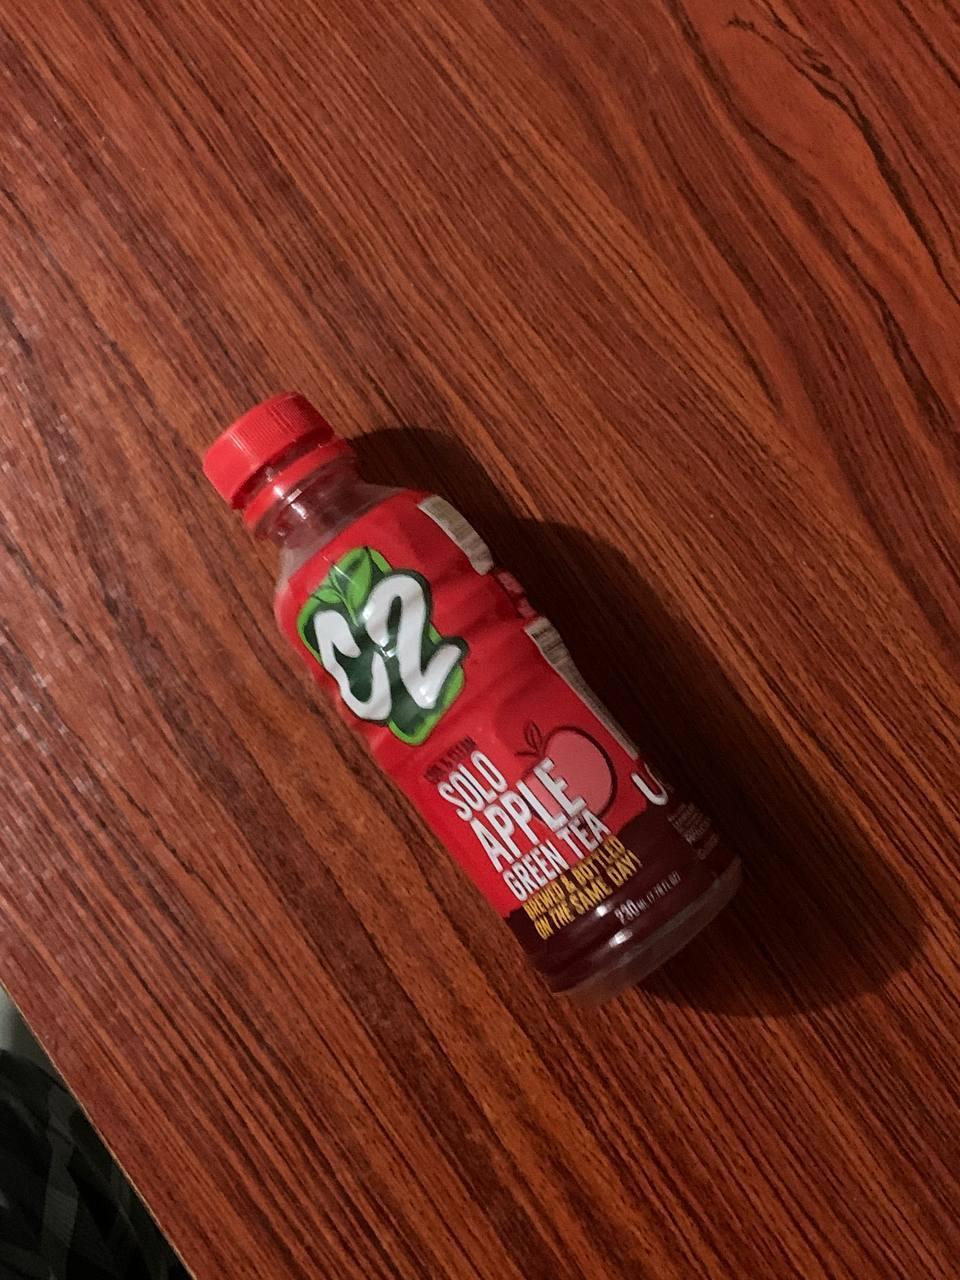plastic: (130, 344, 779, 1050)
